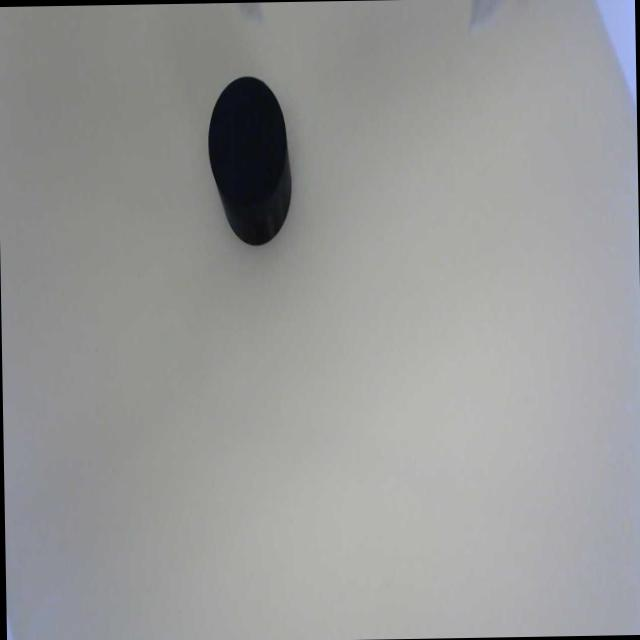circle: (205, 73, 287, 208)
